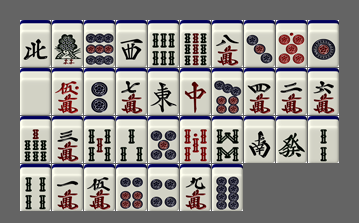0m: (52, 68, 83, 115)
0p: (276, 20, 307, 67)
0s: (180, 116, 211, 163)
1m: (52, 164, 83, 211)
1p: (308, 20, 339, 67)
1s: (52, 20, 83, 67)
1z: (148, 68, 179, 115)
2m: (276, 68, 307, 115)
2p: (84, 68, 115, 115)
2s: (308, 116, 339, 163)
2z: (244, 116, 275, 163)
3m: (52, 116, 83, 163)
3p: (244, 20, 275, 67)
3s: (116, 116, 147, 163)
3z: (116, 20, 147, 67)
4m: (244, 68, 275, 115)
4p: (148, 164, 179, 211)
4s: (20, 164, 51, 211)
4z: (20, 20, 51, 67)
5m: (84, 164, 115, 211)
5p: (148, 116, 179, 163)
5s: (84, 116, 115, 163)
5z: (20, 68, 51, 115)
6m: (308, 68, 339, 115)
6p: (116, 164, 147, 211)
6s: (148, 20, 179, 67)
6z: (276, 116, 307, 163)
7m: (116, 68, 147, 115)
7p: (212, 68, 243, 115)
7s: (20, 116, 51, 163)
7z: (180, 68, 211, 115)
8m: (212, 20, 243, 67)
8p: (212, 164, 243, 211)
8s: (212, 116, 243, 163)
9m: (180, 164, 211, 211)
9p: (84, 20, 115, 67)
9s: (180, 20, 211, 67)
